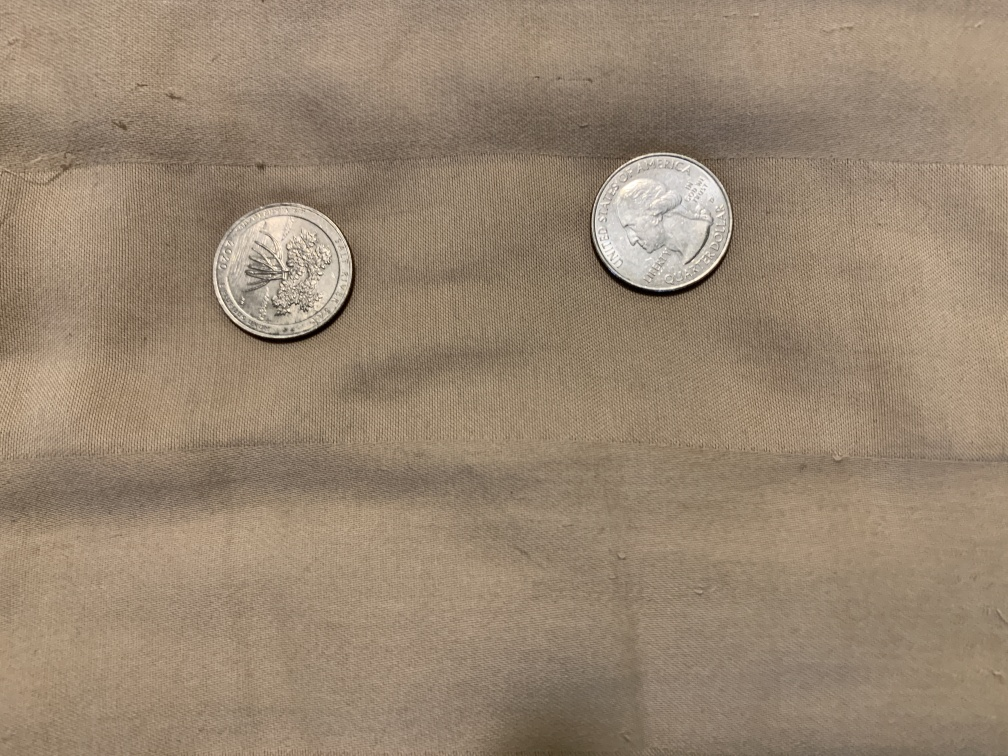quarter: (585, 148, 737, 302), (207, 198, 358, 350)
